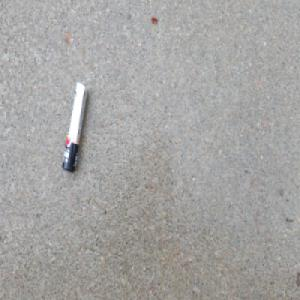Battery: (61, 78, 90, 173)
